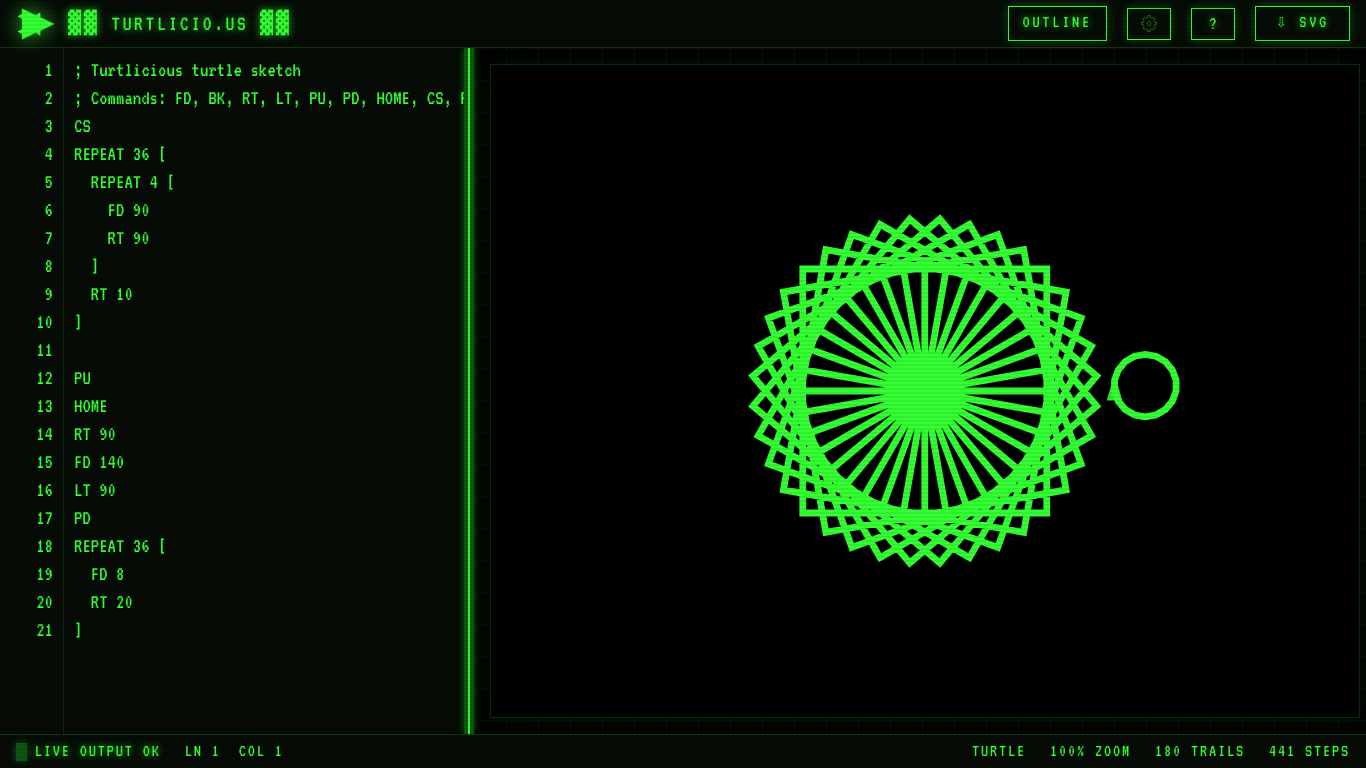
Scenario: App › persists brush changes immediately from the configuration modal
Click the button named "open configuration" at (1149, 24), box [1127,8,1171,40]
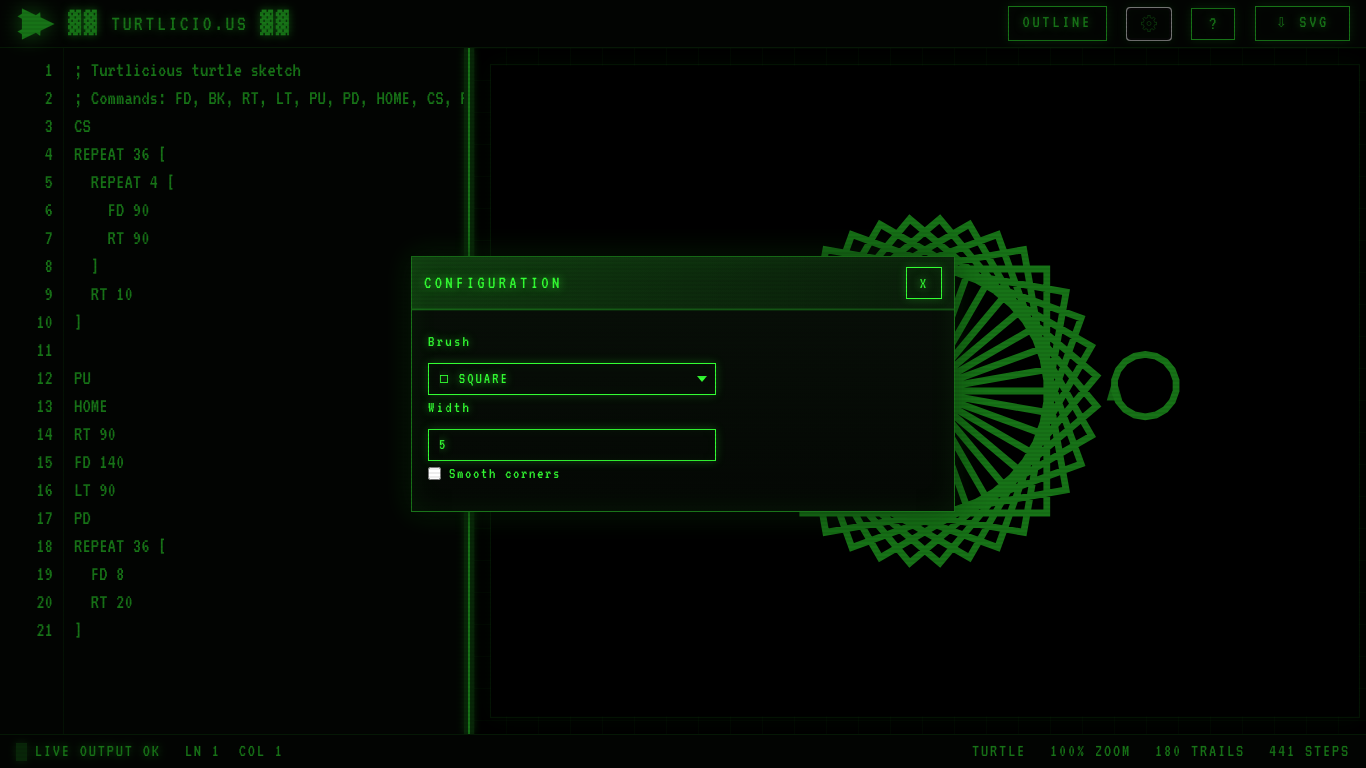
Select "🌈 RAINBOW" in the dropdown named "select brush" at (572, 379), box [428,363,716,395]
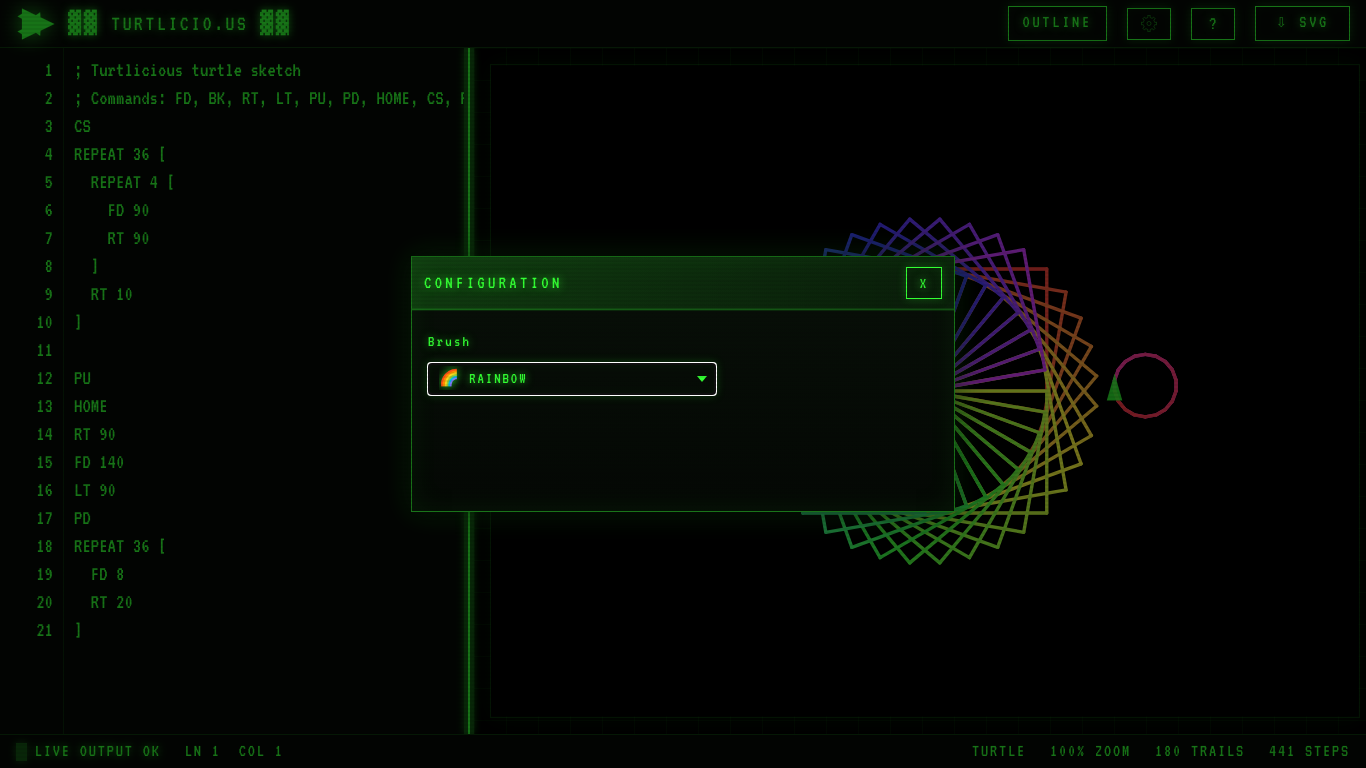
Click the button named "close configuration" at (924, 283), box [906,267,942,299]
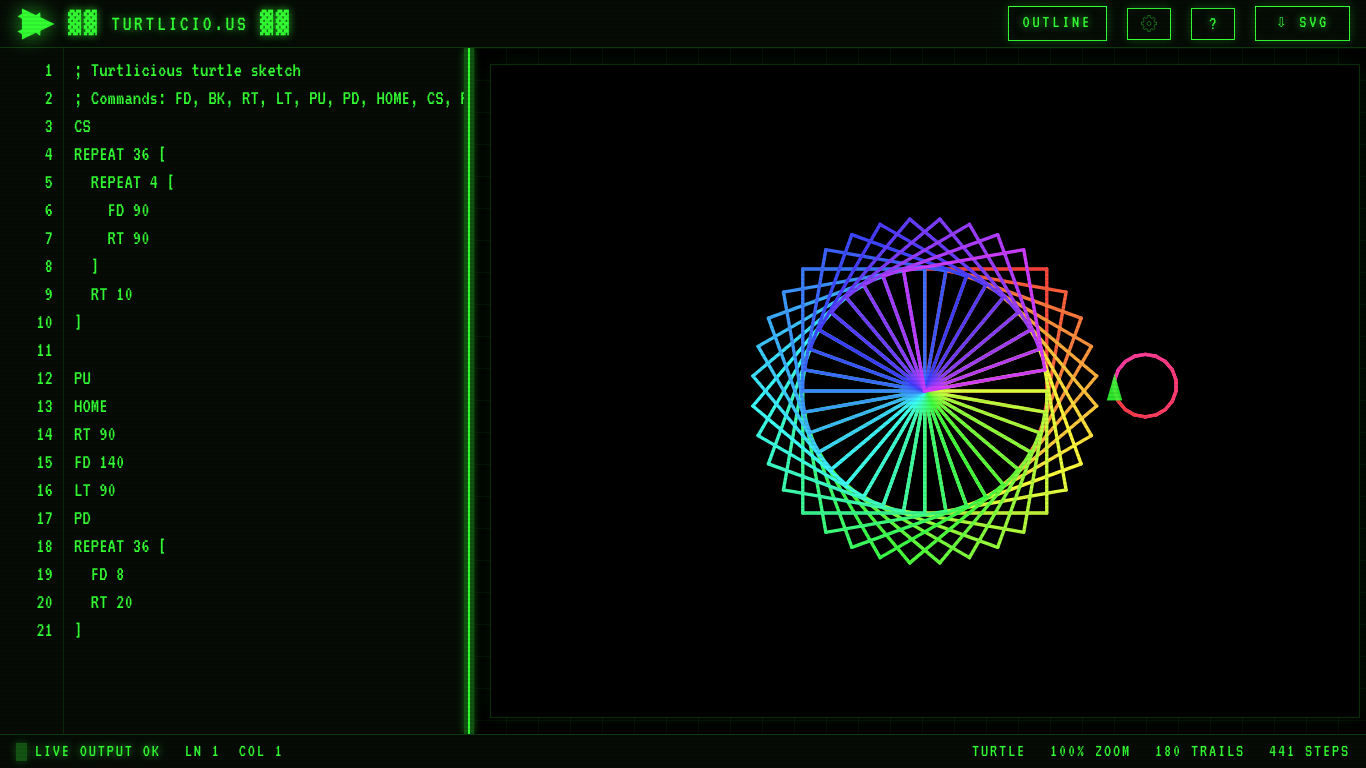
Click the button named "open configuration" at (1149, 24), box [1127,8,1171,40]
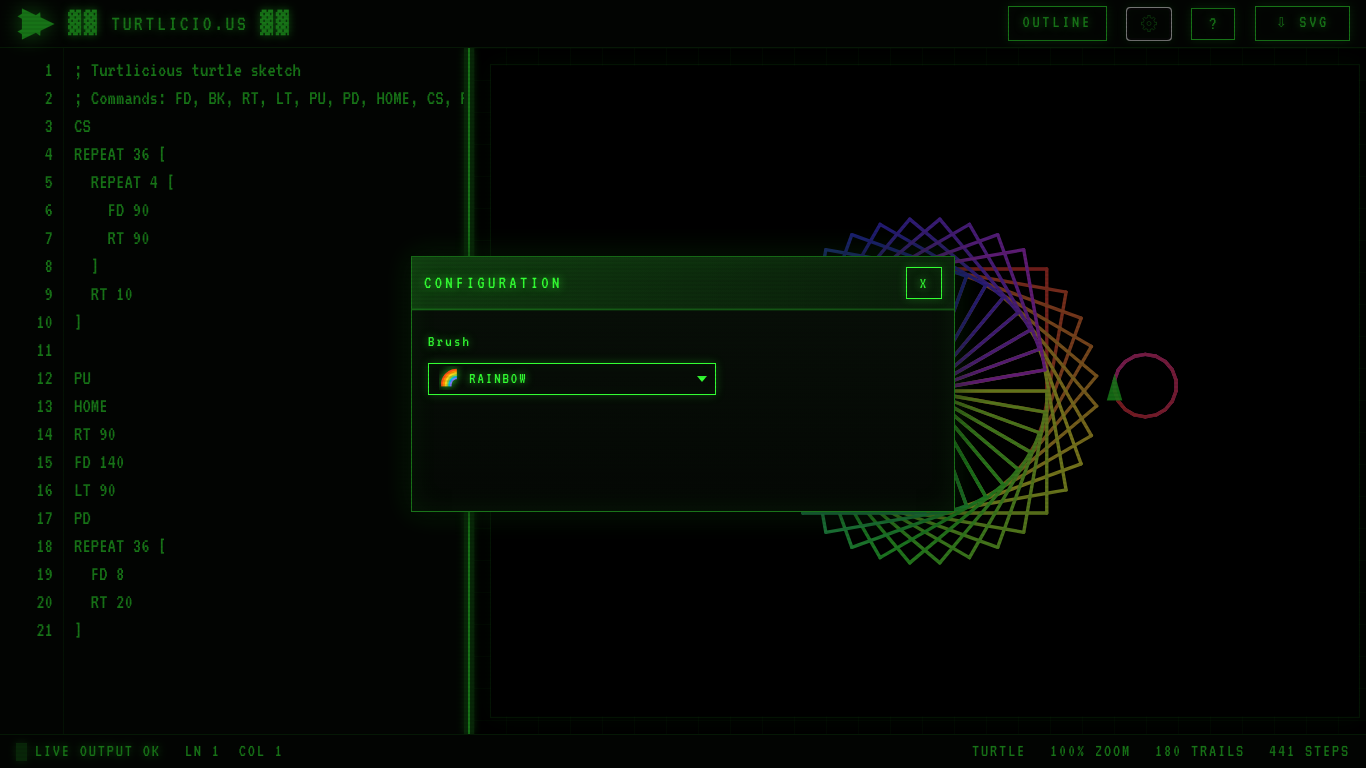
Now the dropdown named "select brush" shows "🌈 RAINBOW", box [428,363,716,395]
